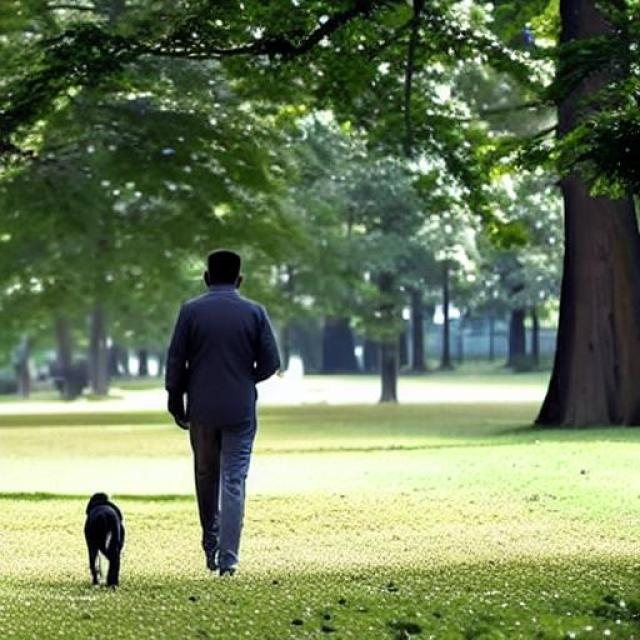Unleashed_Dog: (84, 386, 255, 588)
